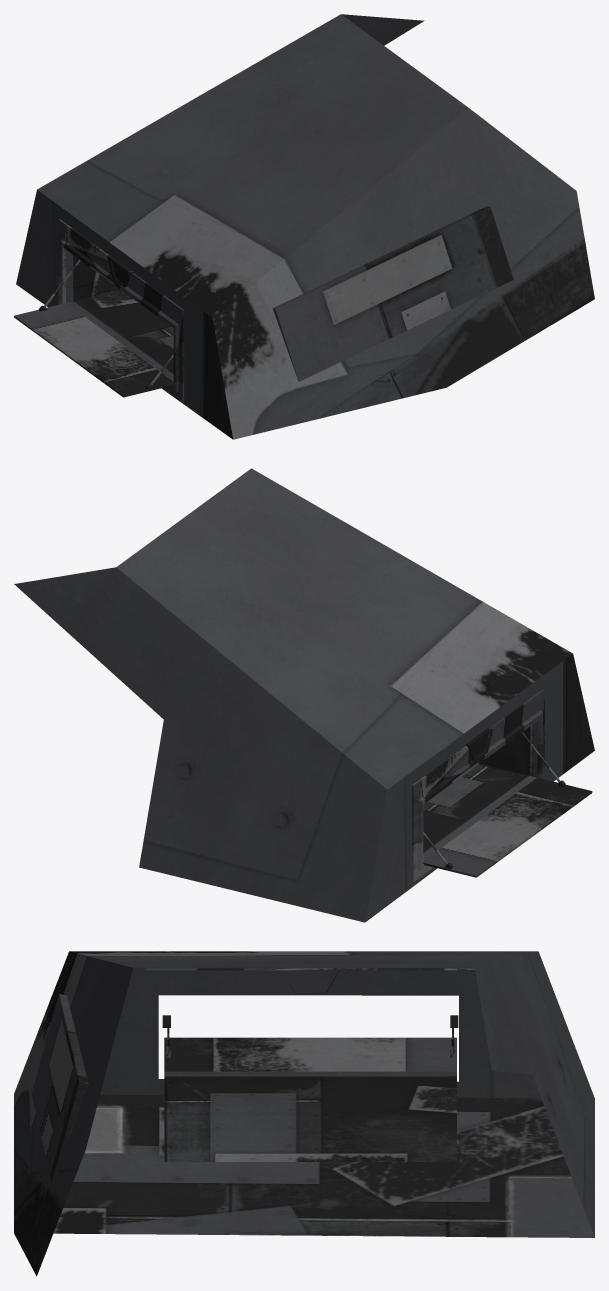
File: HCD13.fbx
The picture shows the model from 3 angles, top to bottom: view 1: azimuth 30°, elevation 25°; view 2: azimuth 150°, elevation 25°; view 3: azimuth 270°, elevation 25°; orthographic projection. The views are drawn at different scales.
Parts seen in each view (by area): view 1: thirteenD; view 2: thirteenD; view 3: thirteenD.
Boxes of the visible parts, box(x1,y1,x2,y2) form: thirteenD: box(14, 14, 594, 439); thirteenD: box(14, 468, 594, 922); thirteenD: box(14, 951, 594, 1276).
Bounding box in the file's own units: 5363 × 2836 × 4760.
1 material, 1 textured.
